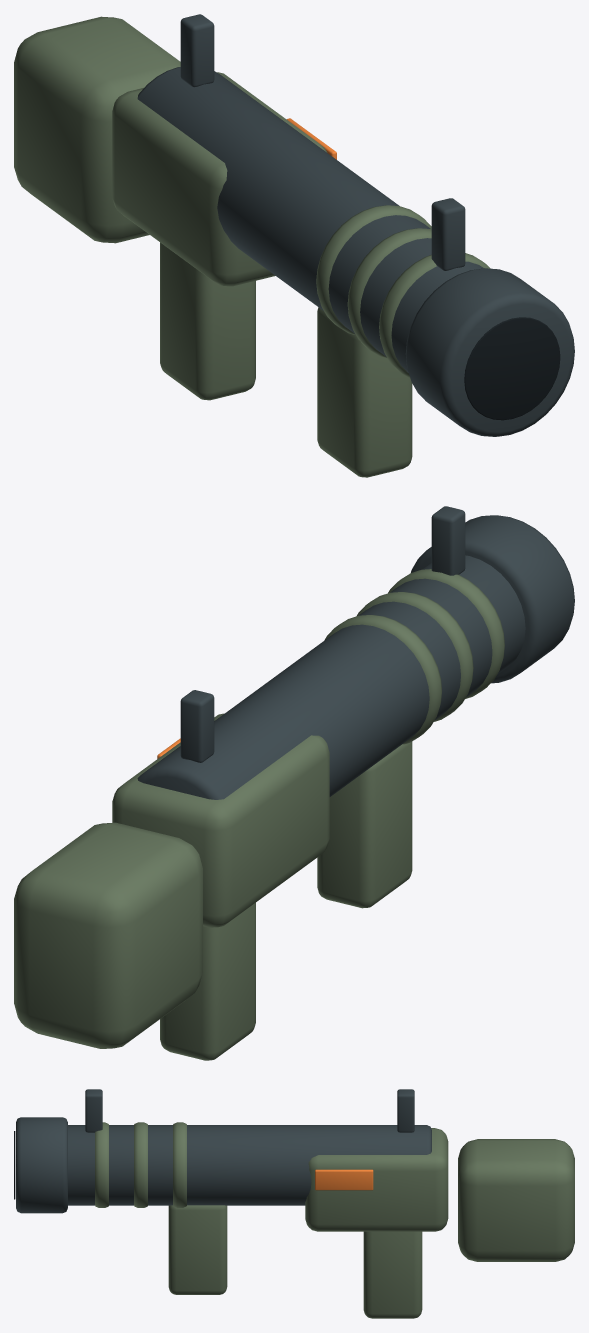
The model's file is thumper_launcher.glb.
3 views of the same model, one above another, from view 1: azimuth 30°, elevation 25°; view 2: azimuth 150°, elevation 25°; view 3: azimuth 270°, elevation 25° (orthographic). The views are drawn at different scales.
Parts seen in each view (by area): view 1: Static_QLL_olive_polymer, Static_QLL_training_steel, Static_Bore_rubber; view 2: Static_QLL_olive_polymer, Static_QLL_training_steel; view 3: Static_QLL_olive_polymer, Static_QLL_training_steel, Static_Safety_markings.
Boxes of the visible parts, x1,y1,x2,y2 form: Static_QLL_olive_polymer: [14, 16, 490, 477]; Static_QLL_training_steel: [137, 14, 574, 436]; Static_Bore_rubber: [464, 317, 560, 420]; Static_QLL_olive_polymer: [14, 569, 504, 1060]; Static_QLL_training_steel: [137, 506, 574, 799]; Static_QLL_olive_polymer: [95, 1122, 574, 1318]; Static_QLL_training_steel: [16, 1089, 431, 1213]; Static_Safety_markings: [315, 1169, 373, 1190].
Bounding box in the file's own units: 0.148 × 0.3745 × 0.863.
